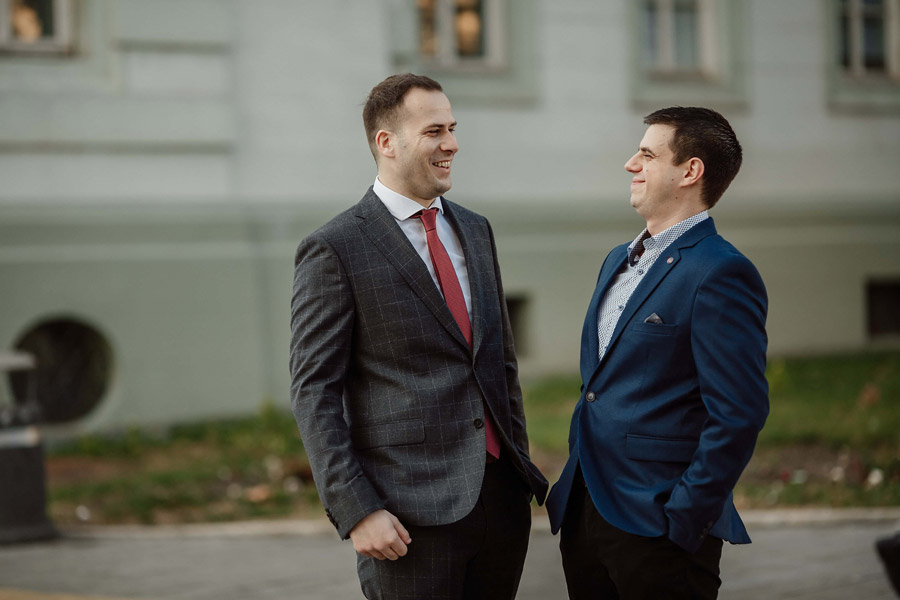male: (285, 71, 540, 600), (551, 106, 769, 600)
